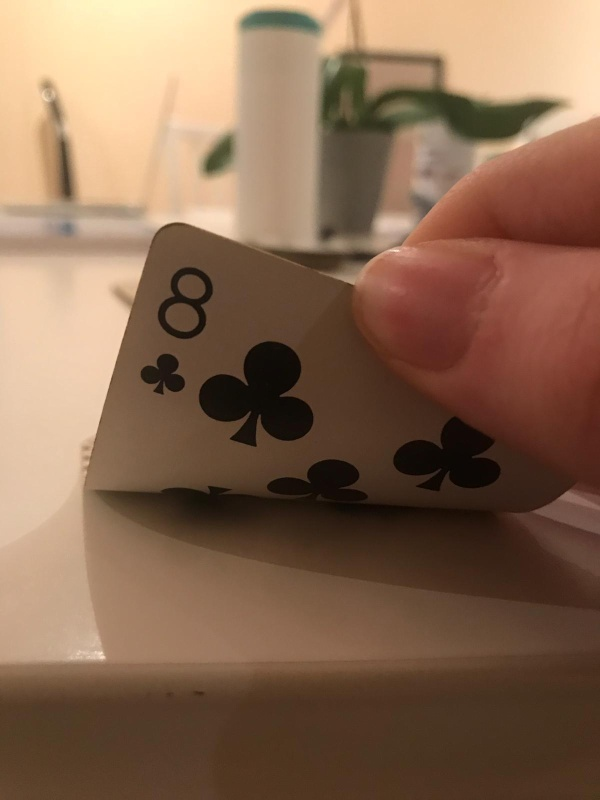C8: (137, 259, 212, 396)
